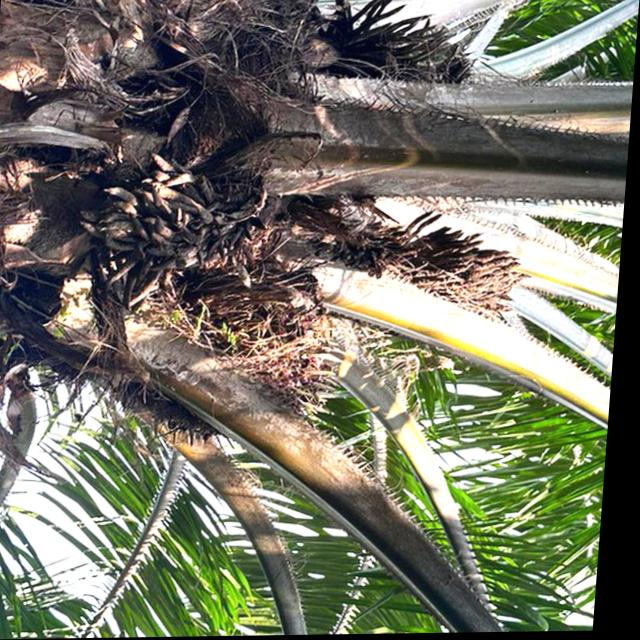ripe: (186, 266, 360, 408)
